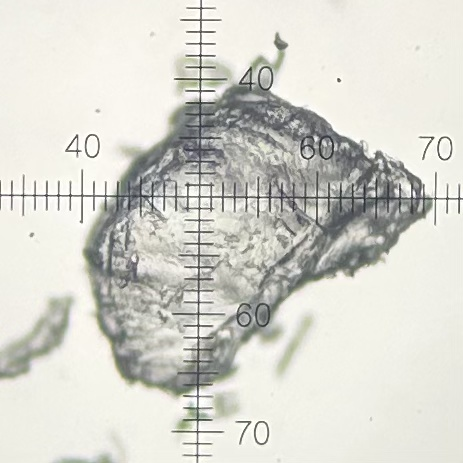microplastic: (80, 30, 435, 398), (1, 295, 75, 383), (171, 53, 237, 99), (277, 317, 312, 377), (214, 389, 243, 420), (187, 399, 211, 425), (172, 417, 194, 435)
